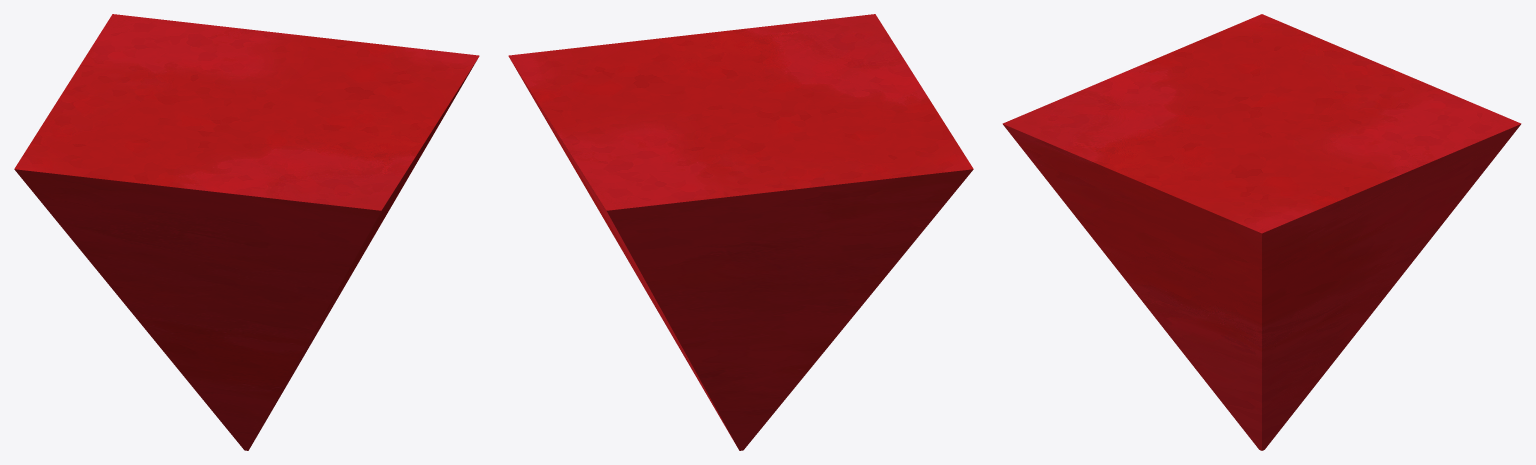
The model's file is triangle-music-gem.glb.
The picture shows the model from 3 angles, left to right: view 1: azimuth 30°, elevation 25°; view 2: azimuth 150°, elevation 25°; view 3: azimuth 270°, elevation 25°; orthographic projection. The views are drawn at different scales.
Parts seen in each view (by area): view 1: triangle-music-gem; view 2: triangle-music-gem; view 3: triangle-music-gem.
Boxes of the visible parts, x1,y1,x2,y2 form: triangle-music-gem: [14, 14, 479, 450]; triangle-music-gem: [508, 14, 973, 450]; triangle-music-gem: [1002, 14, 1521, 450].
Size of the model in its own units: 0.4789 by 0.3317 by 0.4789.
Materials: 1 (1 with a texture image).
